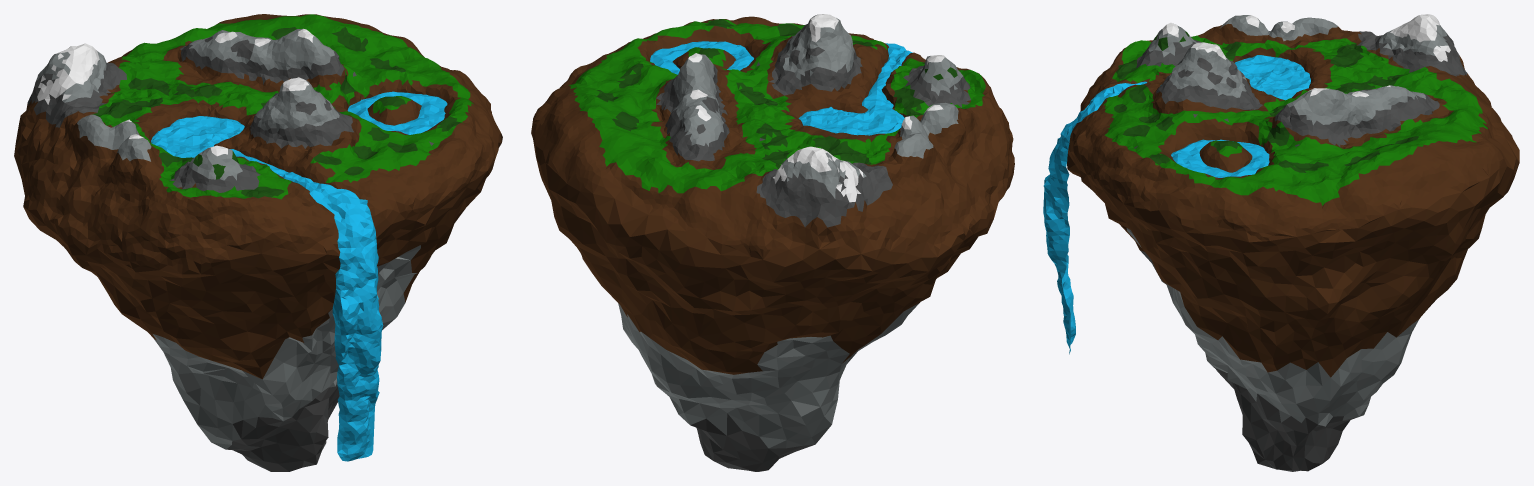
The model's file is HauptweltSubdivision2.fbx.
3 views of the same model, side by side, from view 1: azimuth 30°, elevation 25°; view 2: azimuth 150°, elevation 25°; view 3: azimuth 270°, elevation 25° (orthographic). The views are drawn at different scales.
Visible parts, largest first — view 1: WeltSmart, WasserSmart; view 2: WeltSmart, WasserSmart; view 3: WeltSmart, WasserSmart.
Part boxes in pixels (x1=…): WeltSmart: x1=14, y1=14, x2=502, y2=471; WasserSmart: x1=151, y1=91, x2=447, y2=461; WeltSmart: x1=531, y1=14, x2=1014, y2=471; WasserSmart: x1=650, y1=41, x2=912, y2=135; WeltSmart: x1=1067, y1=14, x2=1519, y2=471; WasserSmart: x1=1043, y1=55, x2=1310, y2=354.
Size of the model in its own units: 71748 by 70170 by 73911.
